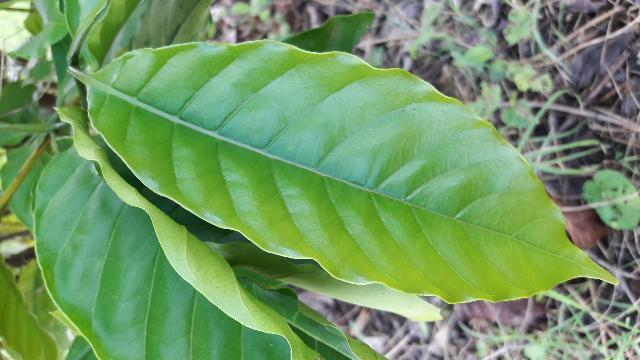healthy: (87, 43, 617, 304)
